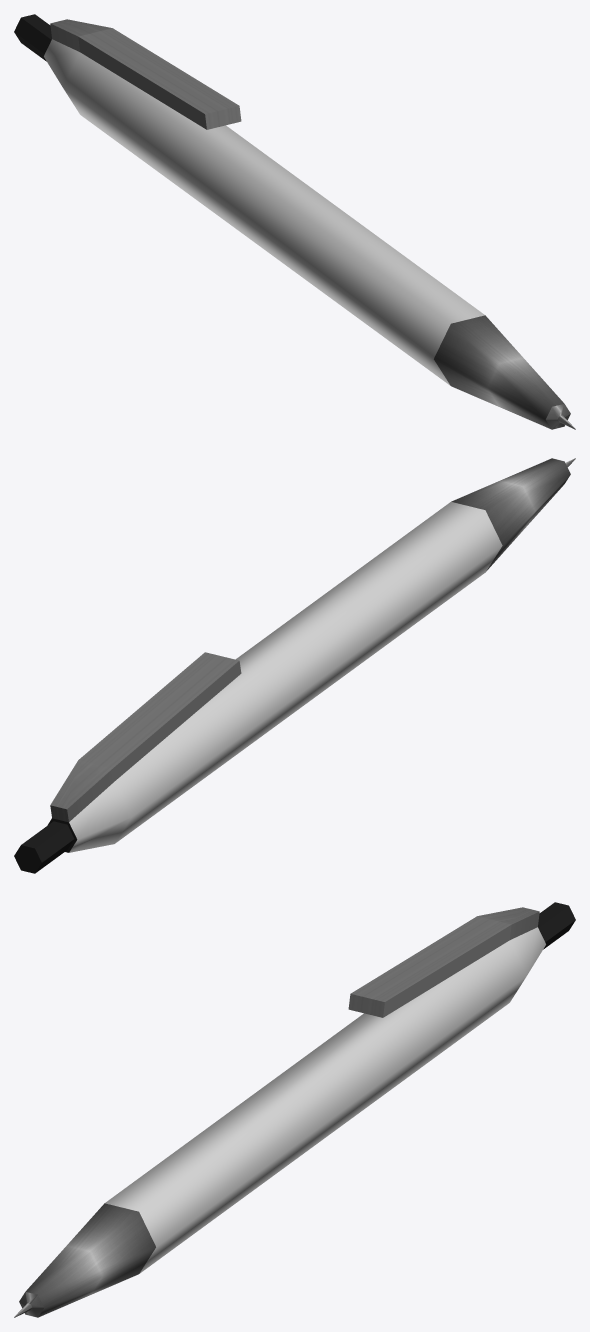
The model's file is Pen_B.FBX.
The picture shows the model from 3 angles, top to bottom: view 1: azimuth 30°, elevation 25°; view 2: azimuth 150°, elevation 25°; view 3: azimuth 330°, elevation 25°; orthographic projection.
Parts seen in each view (by area): view 1: Pen; view 2: Pen; view 3: Pen.
Part boxes in pixels (x1=…): Pen: x1=14, y1=14, x2=575, y2=429; Pen: x1=14, y1=458, x2=575, y2=873; Pen: x1=14, y1=902, x2=575, y2=1317.
Size of the model in its own units: 4 by 5.1 by 55.01.
